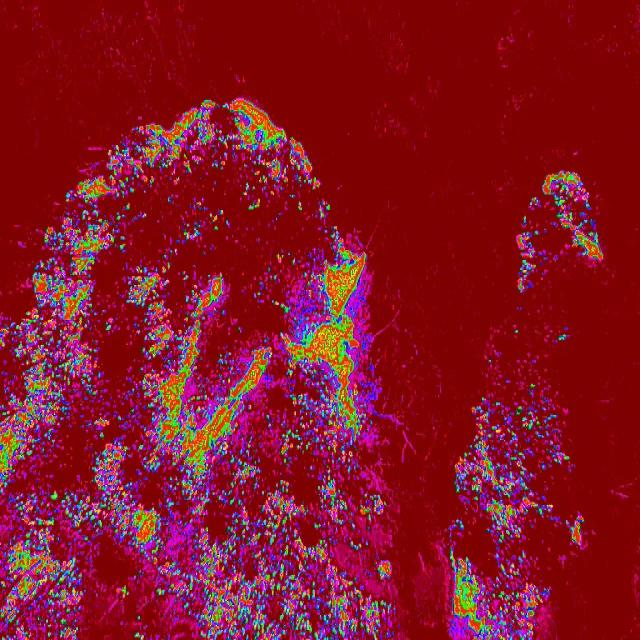fire: (0, 311, 388, 640), (32, 220, 367, 310), (452, 392, 568, 538), (64, 174, 330, 220), (108, 122, 312, 173), (451, 552, 553, 640), (517, 169, 602, 262), (174, 95, 270, 123), (512, 234, 541, 288), (568, 514, 584, 550)
